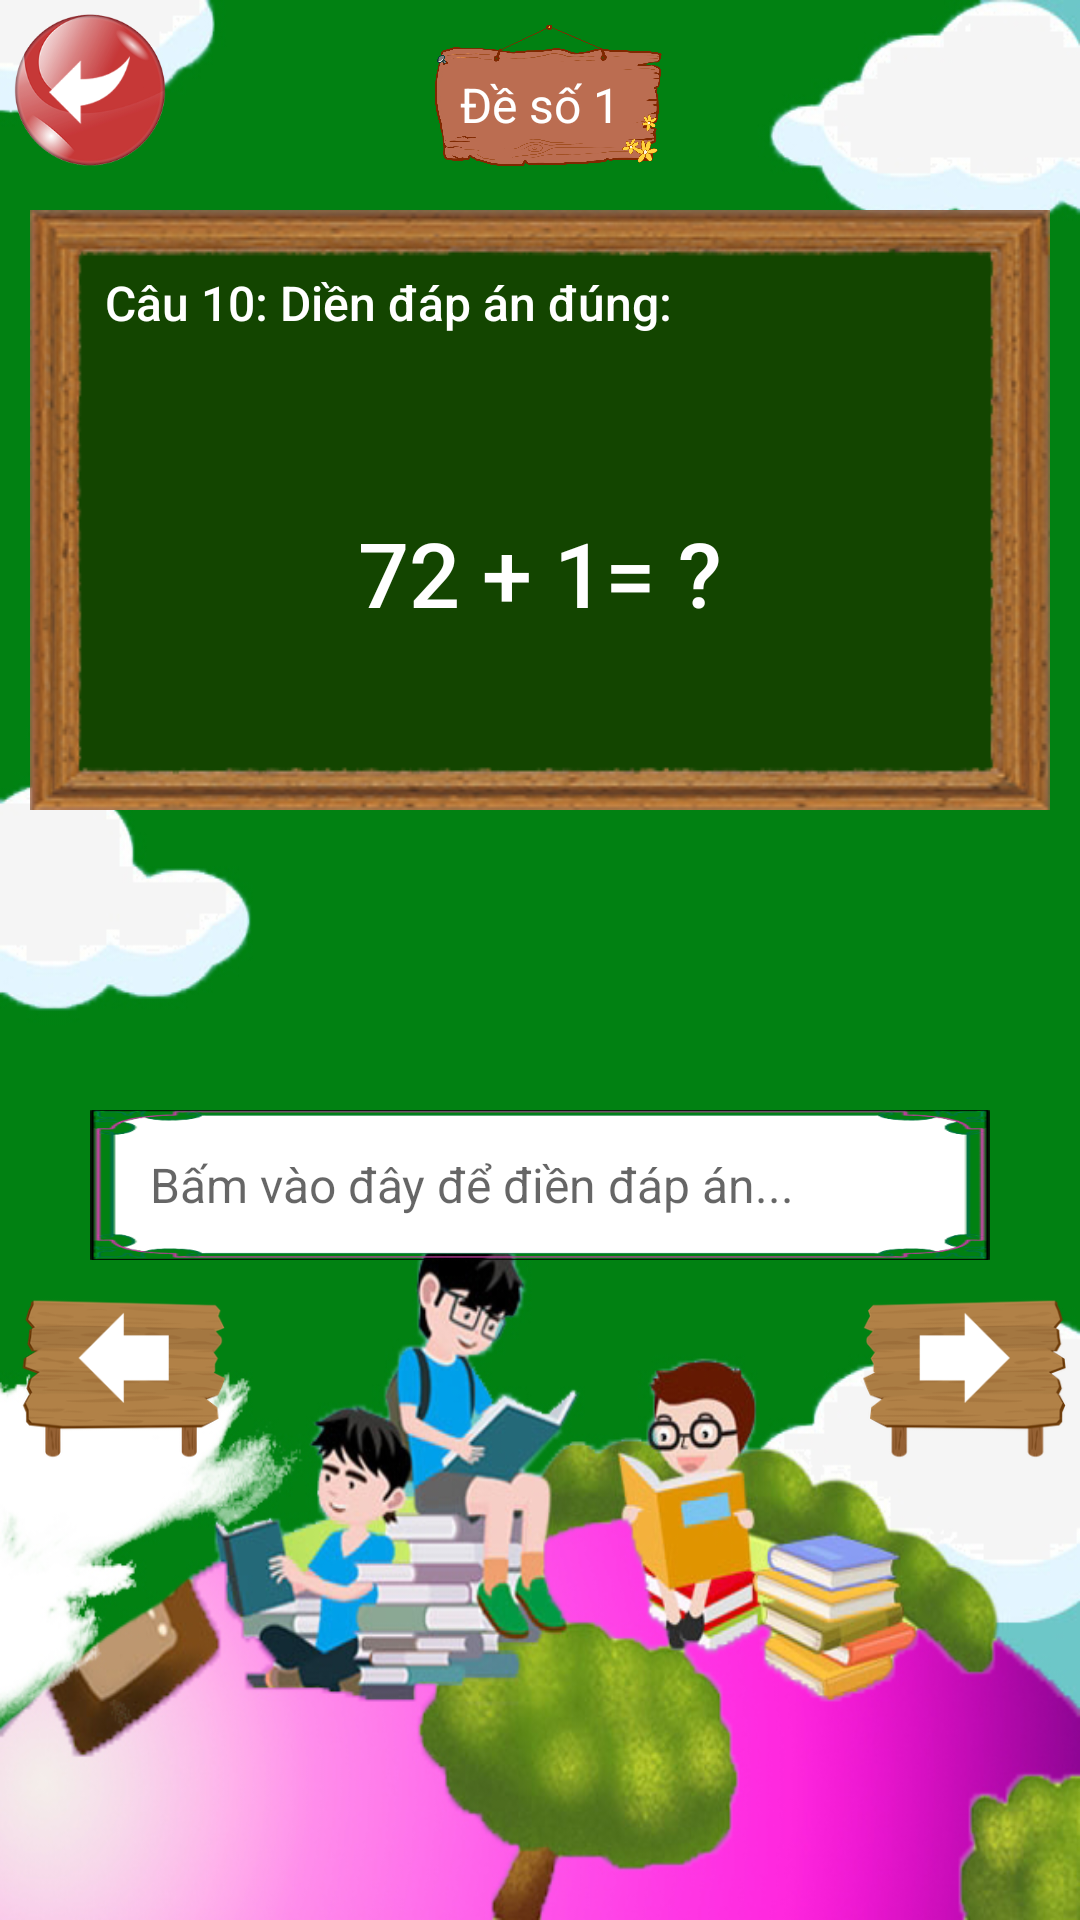

Icon click points for this 1080×1920 phone screenshot, format (x,y):
back: (90,83)
next cauhoi: (960,1380)
pre cauhoi: (120,1380)
